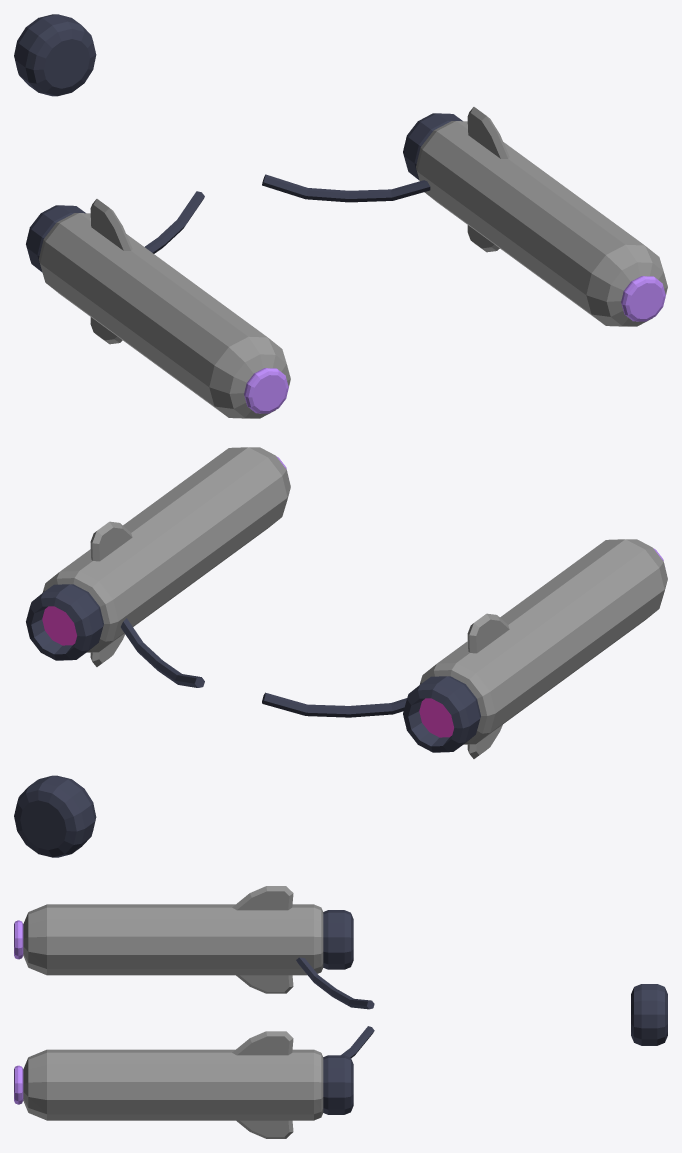
File: engine_star.obj
3 views of the same model, one above another, from view 1: azimuth 30°, elevation 25°; view 2: azimuth 150°, elevation 25°; view 3: azimuth 270°, elevation 25° (orthographic). The views are drawn at different scales.
Bounding box in the file's own units: 3.14 × 0.9 × 4.95.
